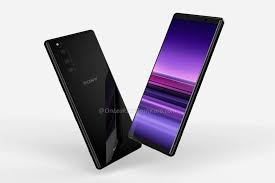sony: (41, 25, 140, 170)
